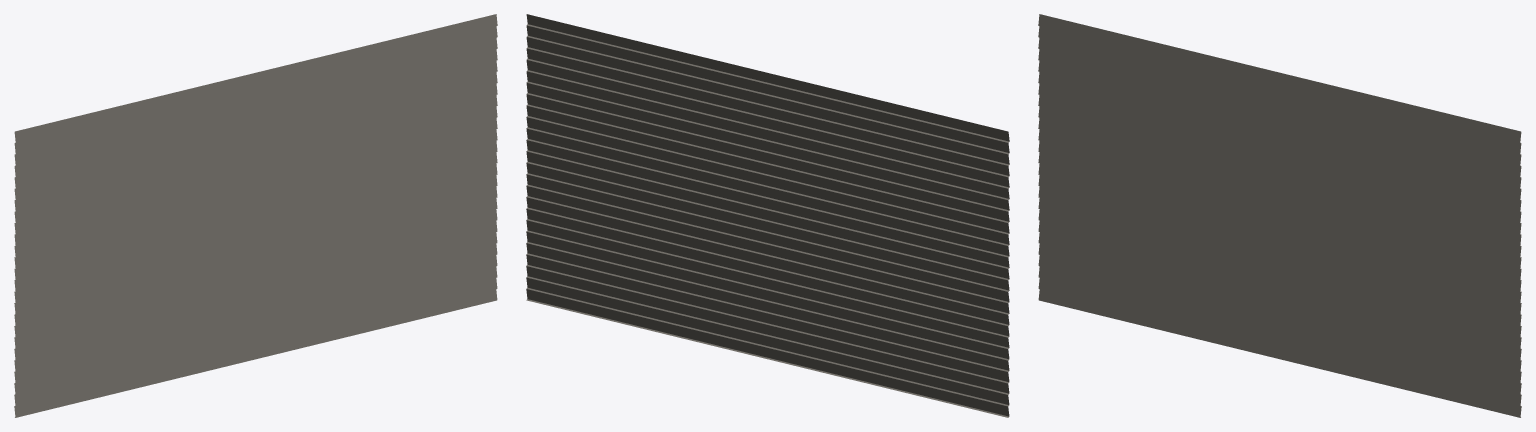
The model's file is PF_WindowBlinds_Textured.fbx.
The picture shows the model from 3 angles, left to right: view 1: azimuth 30°, elevation 25°; view 2: azimuth 150°, elevation 25°; view 3: azimuth 330°, elevation 25°; orthographic projection.
Visible parts, largest first — view 1: pCube27; view 2: pCube27; view 3: pCube27.
Boxes of the visible parts, <box> form: pCube27: <box>14,14,497,417</box>; pCube27: <box>526,14,1009,417</box>; pCube27: <box>1038,14,1521,417</box>.
Bounding box in the file's own units: 230 × 130 × 1.19.
